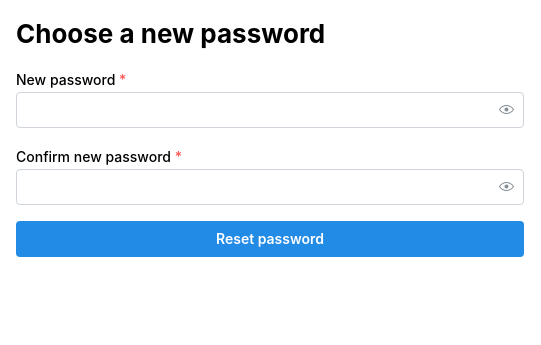
Test: ResetPasswordPage › surfaces ApiError messages from the backend
Type "longenough1" into the password field labelled "New password *". click: (270, 110)
box: [17,93,523,127]
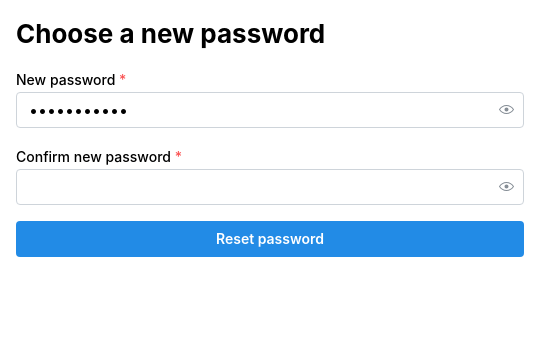
Type "longenough1" into the password field labelled "Confirm new password *". click: (270, 187)
box: [17,170,523,204]
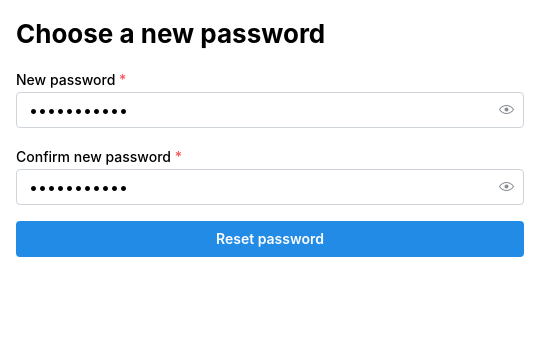
Submit the form "Reset password"
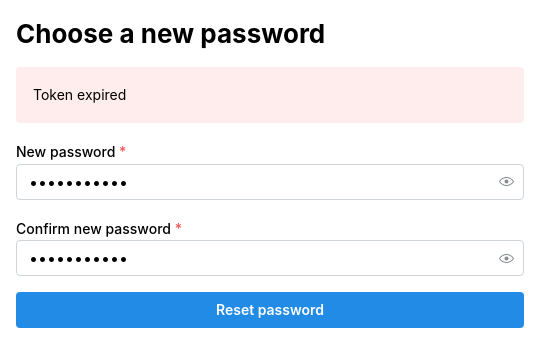
Result: the text "Token expired" is shown at [33,86,126,103]
